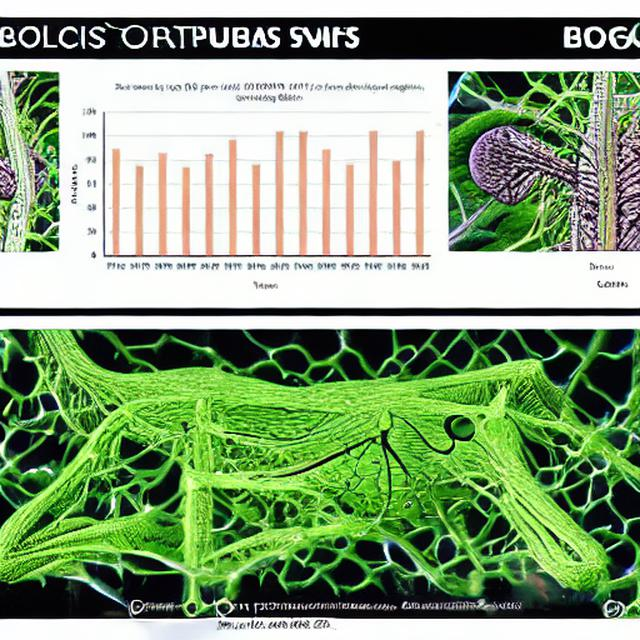Graph: (64, 72, 438, 295)
